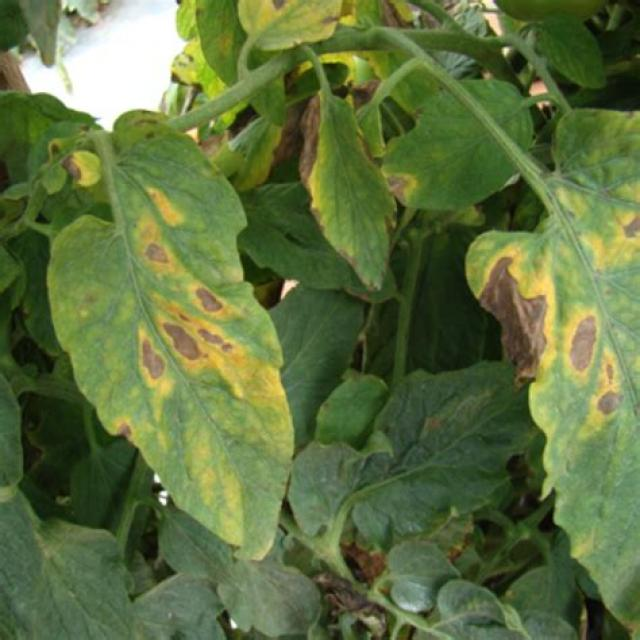blight: (114, 218, 240, 412), (294, 93, 398, 286), (474, 239, 559, 403)
